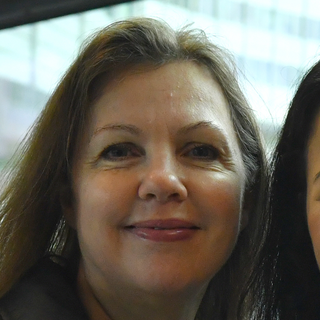eye: (96, 140, 144, 165), (179, 139, 222, 164)
